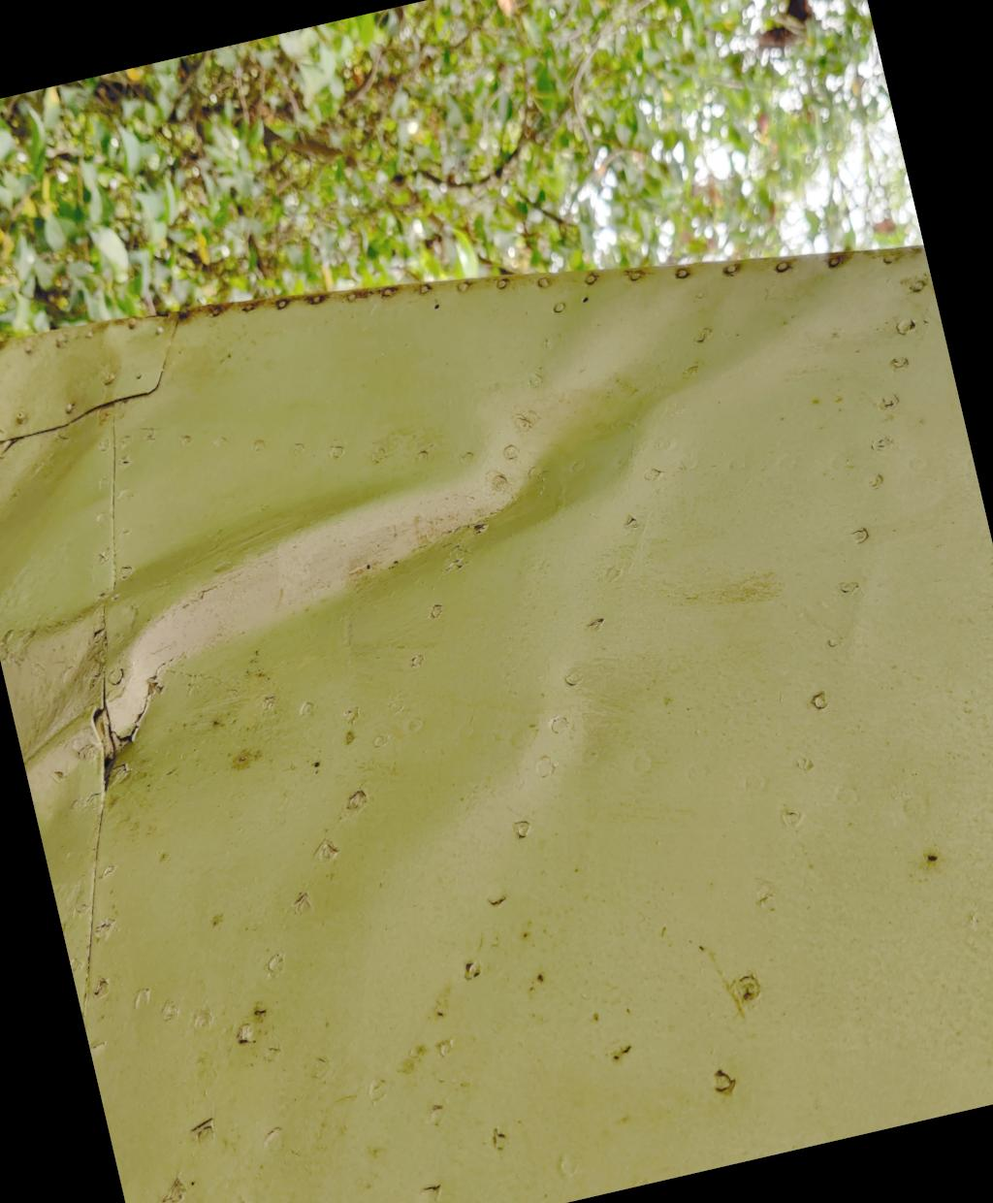crack: (86, 648, 200, 760)
dent: (0, 107, 989, 938), (0, 294, 167, 567)
